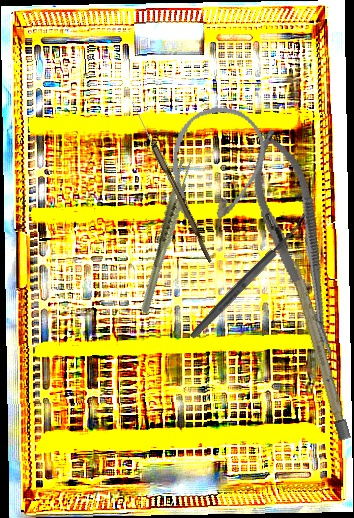Cannula: (153, 96, 275, 244)
Needle Holder: (239, 124, 353, 363)
Scalpel Handle: (287, 255, 351, 441)
Surgical Spoon: (187, 211, 314, 342), (128, 100, 216, 264)
Tissue Forceps: (113, 155, 218, 315)
